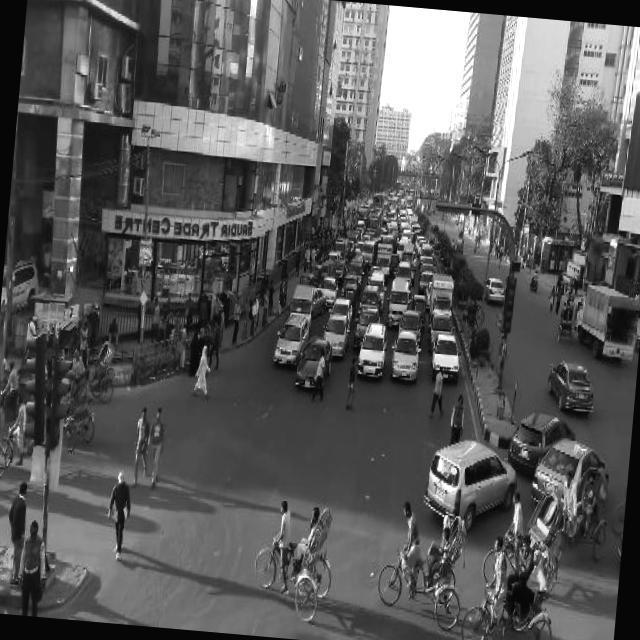bus: (402, 242, 415, 264)
car: (422, 435, 521, 535), (529, 432, 608, 511), (507, 407, 578, 478), (546, 358, 598, 410), (295, 329, 335, 390), (271, 308, 311, 366), (357, 319, 390, 379), (391, 330, 424, 384), (430, 332, 463, 382), (320, 310, 350, 356), (352, 304, 382, 344), (428, 310, 456, 351), (328, 294, 354, 326), (318, 274, 338, 307), (484, 276, 506, 302), (420, 268, 435, 290), (334, 255, 346, 281)
motorcycle: (251, 490, 342, 621), (373, 507, 468, 628), (460, 532, 563, 640), (484, 485, 569, 591), (552, 462, 606, 568), (70, 334, 119, 404), (62, 376, 99, 446), (558, 300, 576, 337), (411, 292, 428, 328), (342, 281, 358, 314), (310, 262, 323, 285), (528, 267, 540, 291), (322, 258, 336, 278), (300, 270, 315, 284), (390, 252, 399, 268)
truck: (574, 281, 640, 356), (429, 269, 456, 319), (288, 282, 315, 330), (387, 276, 411, 326), (364, 267, 388, 310), (344, 253, 366, 295), (375, 240, 392, 278), (392, 258, 414, 284), (418, 241, 438, 264), (332, 236, 348, 258), (362, 238, 376, 262), (356, 238, 364, 250)
